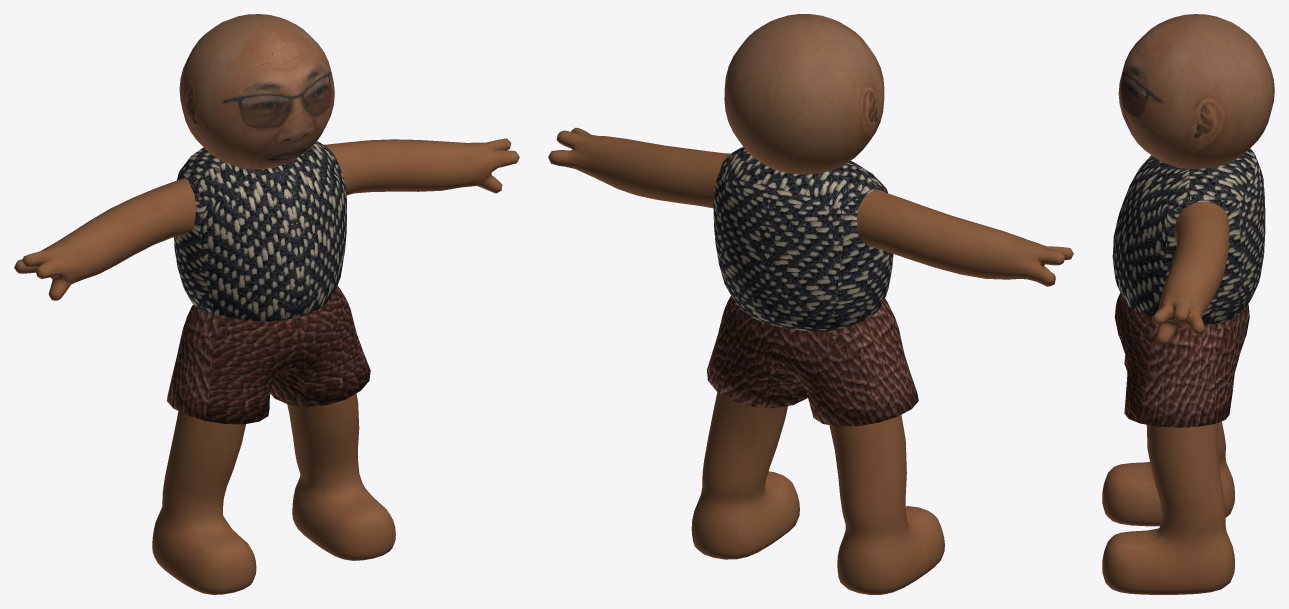
Rendered from 10 npc.fbx.
3 views of the same model, side by side, from view 1: azimuth 30°, elevation 25°; view 2: azimuth 150°, elevation 25°; view 3: azimuth 270°, elevation 25° (orthographic). The views are drawn at different scales.
Parts seen in each view (by area): view 1: pasted__pasted__pasted__polySurface69; view 2: pasted__pasted__pasted__polySurface69; view 3: pasted__pasted__pasted__polySurface69.
Part boxes in pixels (x1,y1,x2,y2): pasted__pasted__pasted__polySurface69: (14, 14, 519, 594); pasted__pasted__pasted__polySurface69: (548, 14, 1073, 594); pasted__pasted__pasted__polySurface69: (1102, 14, 1274, 594).
Size of the model in its own units: 7.24 by 7.46 by 2.21.
Materials: 4 (4 with a texture image).
